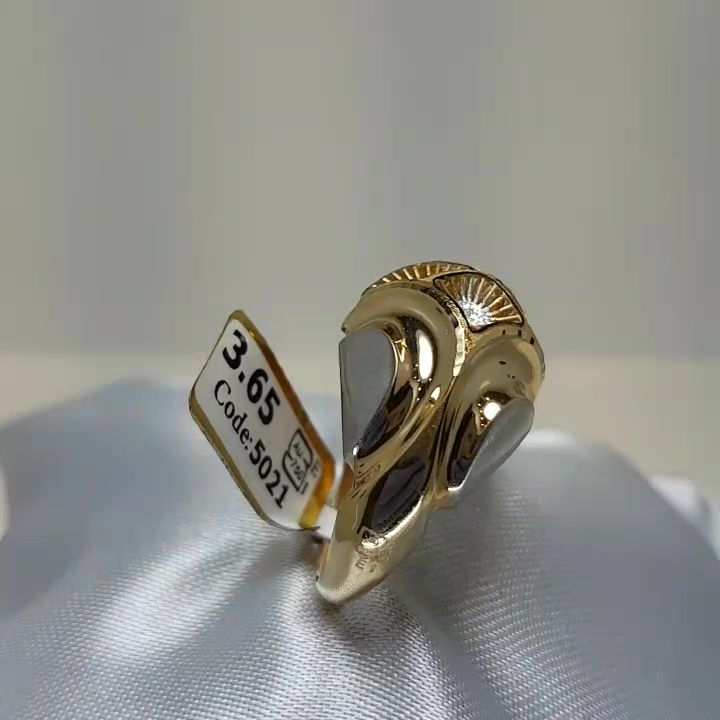Ring 2: (223, 237, 576, 646)
